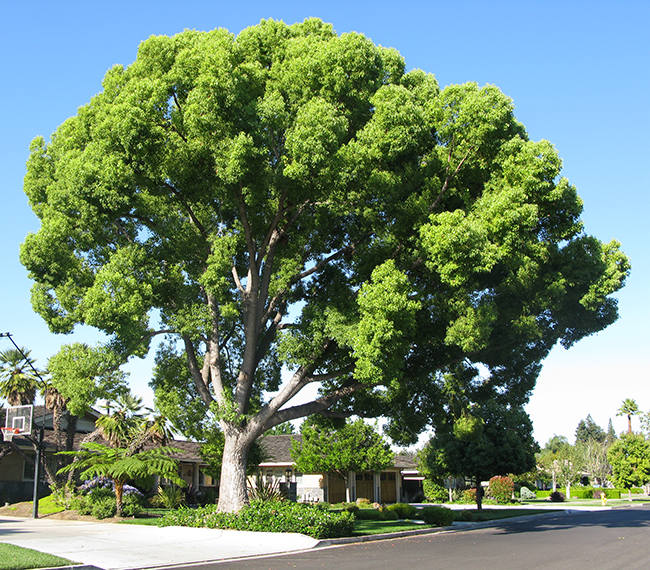tree: (16, 14, 633, 518)
